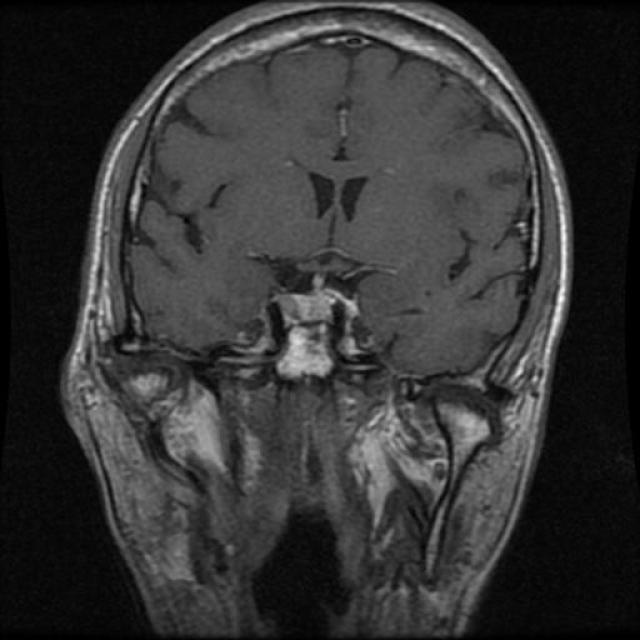pituitary: (260, 286, 362, 382)
